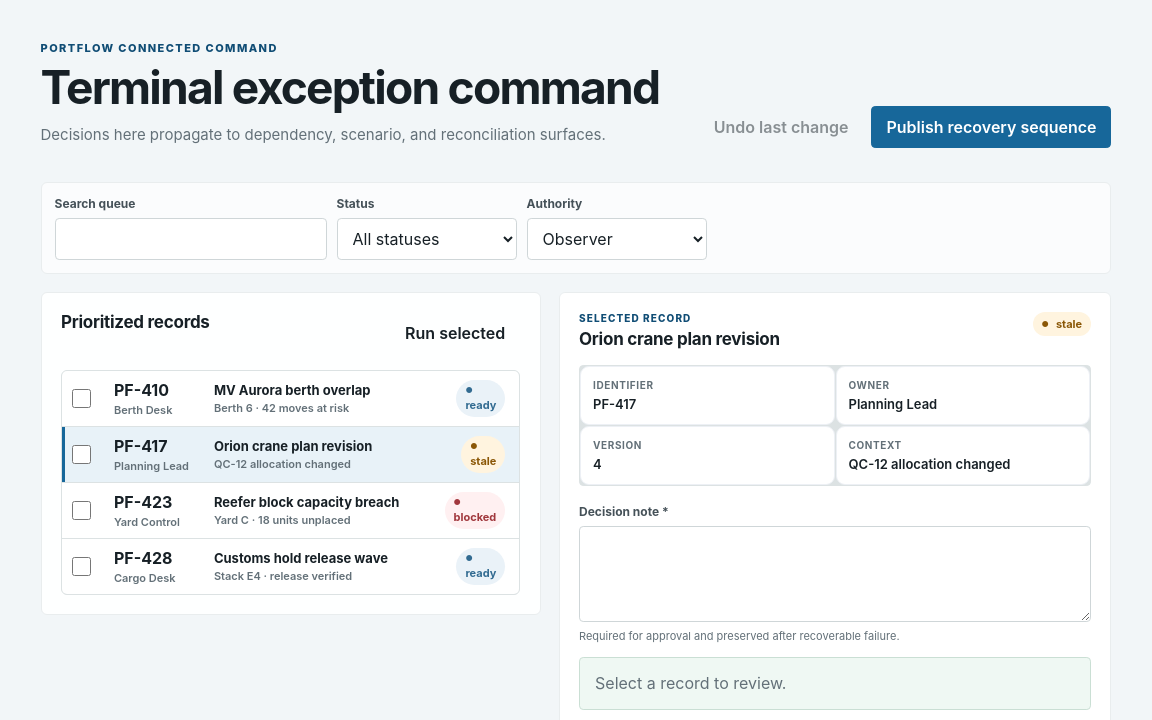
Test: Terminal exception command › recovers a stale save while preserving the decision note
Select "Approver" in the dropdown labelled "Authority" at (616, 239), box [526,218,706,260]
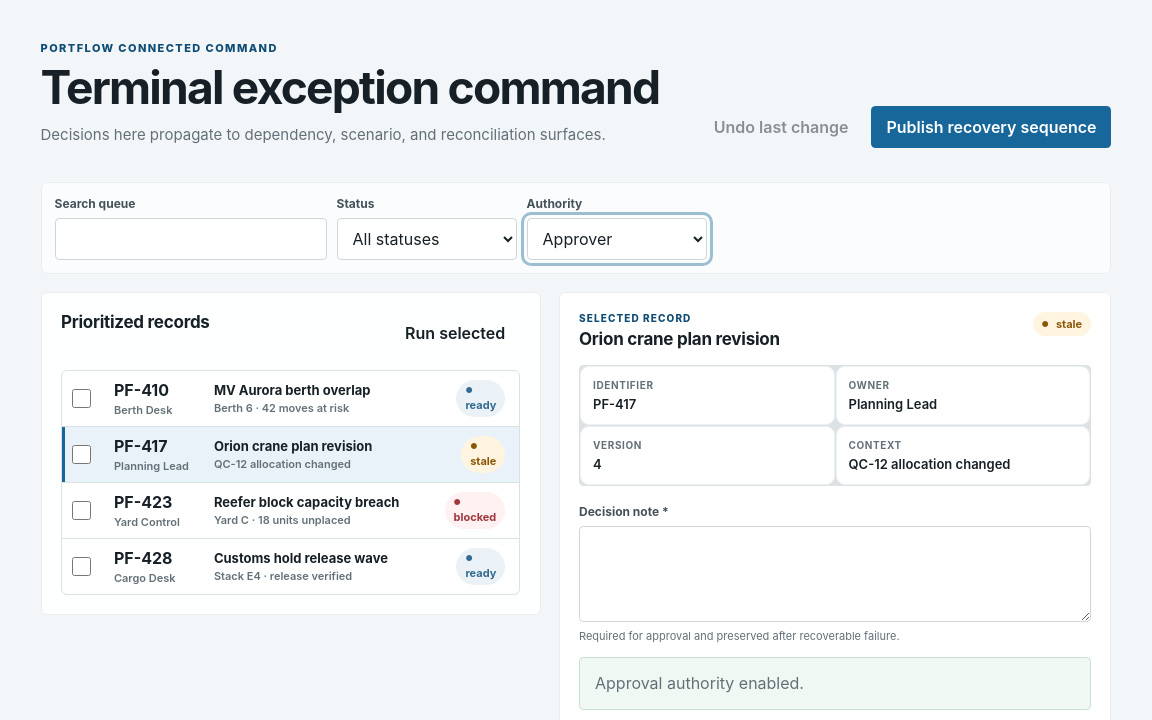
Type "Keep this evidence-based rationale" into the text box labelled "Decision note" at (835, 574), box [579,526,1091,622]
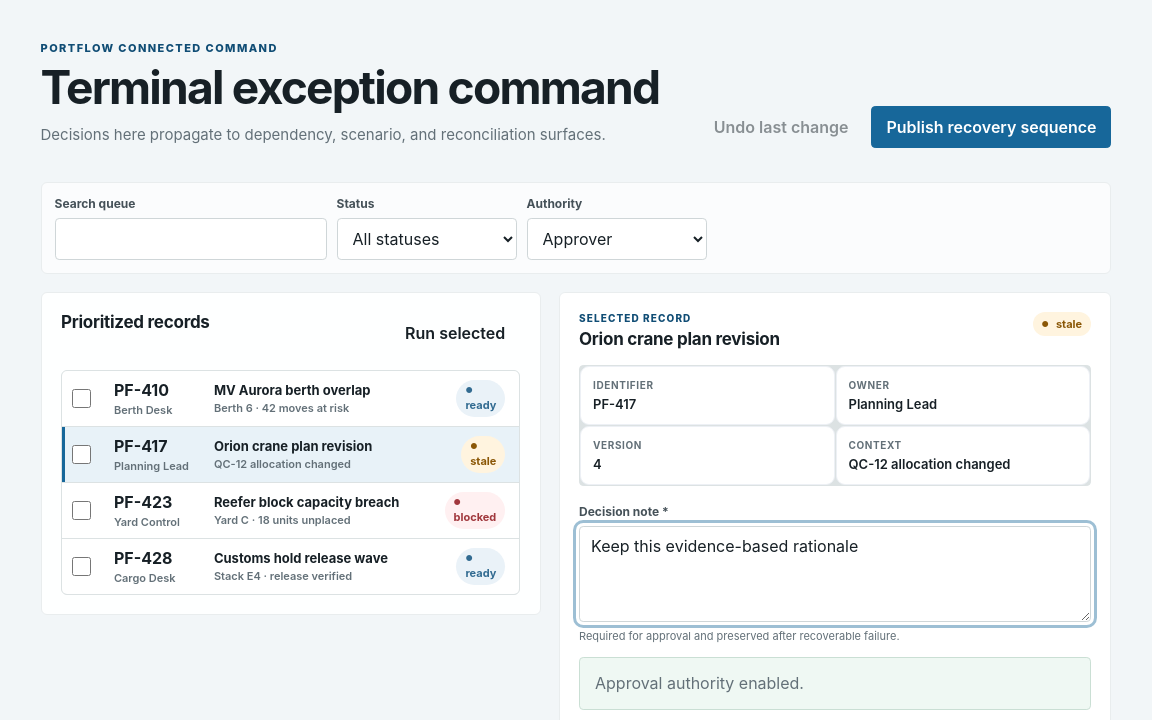
Click the button "Publish recovery sequence" at (992, 127), box [872,106,1112,148]
(page scrolled)
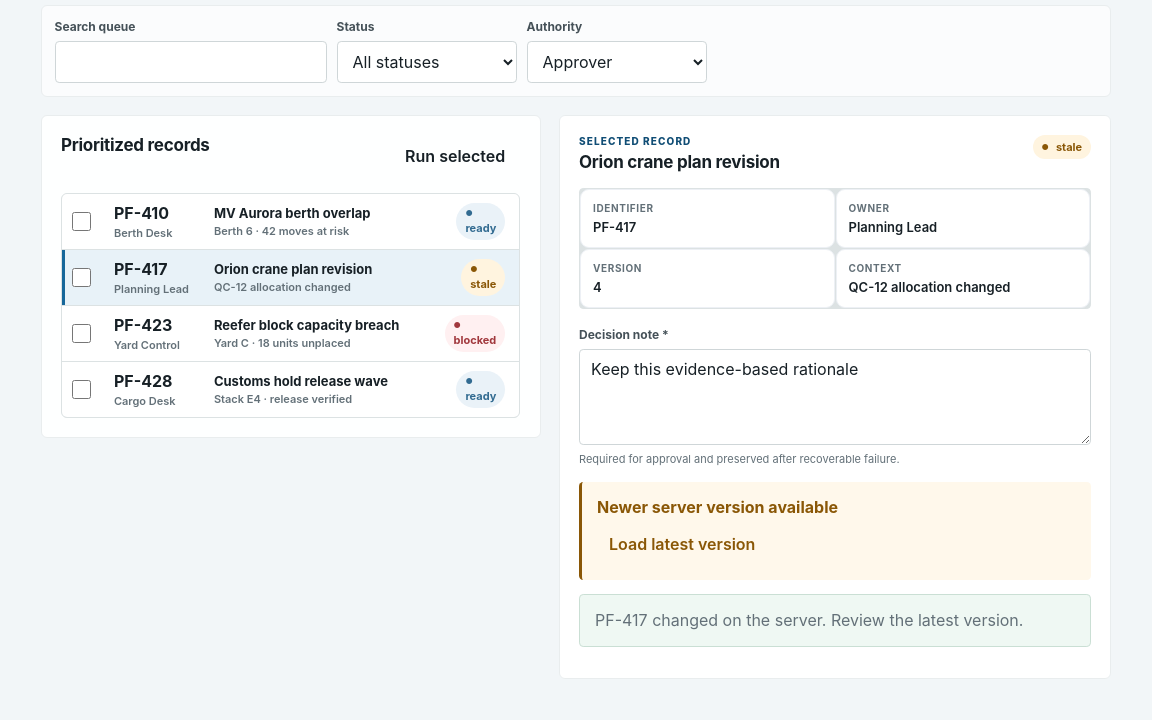
expect the message "Newer server version available Load latest version" is shown: met, box [579,482,1091,580]
Click the button "Load latest version" at (682, 544), box [597,523,1076,565]
(page scrolled)
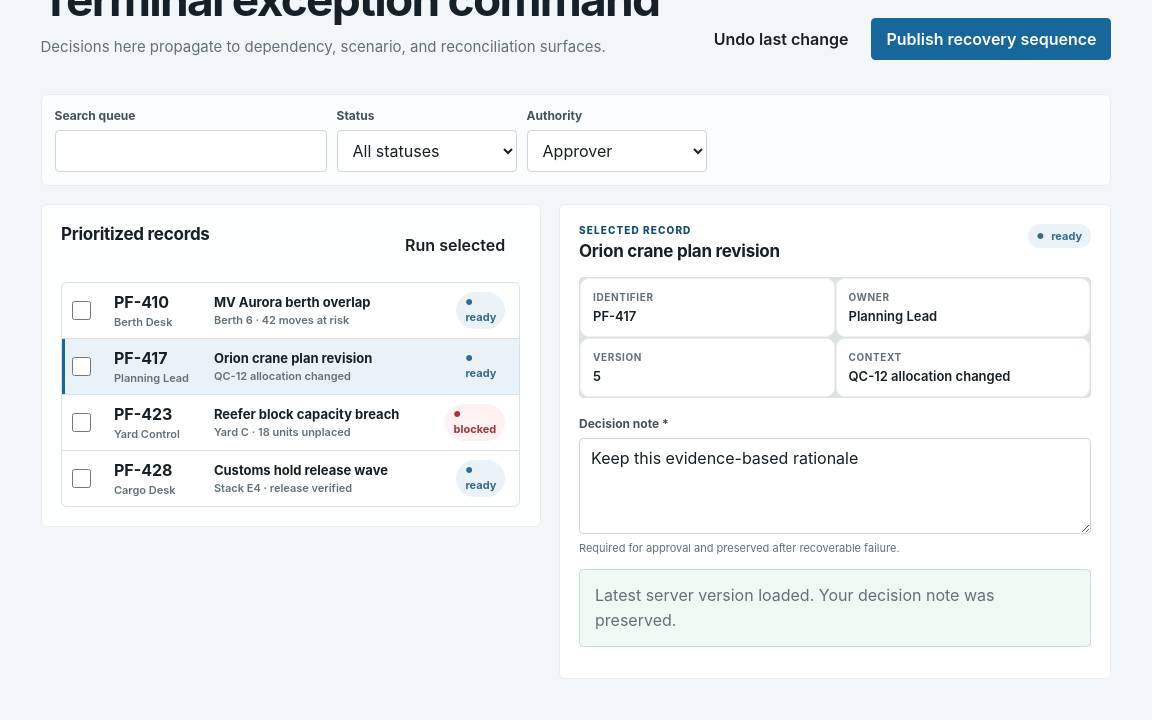
Click the button "Publish recovery sequence" at (992, 39), box [872,18,1112,60]
(page scrolled)
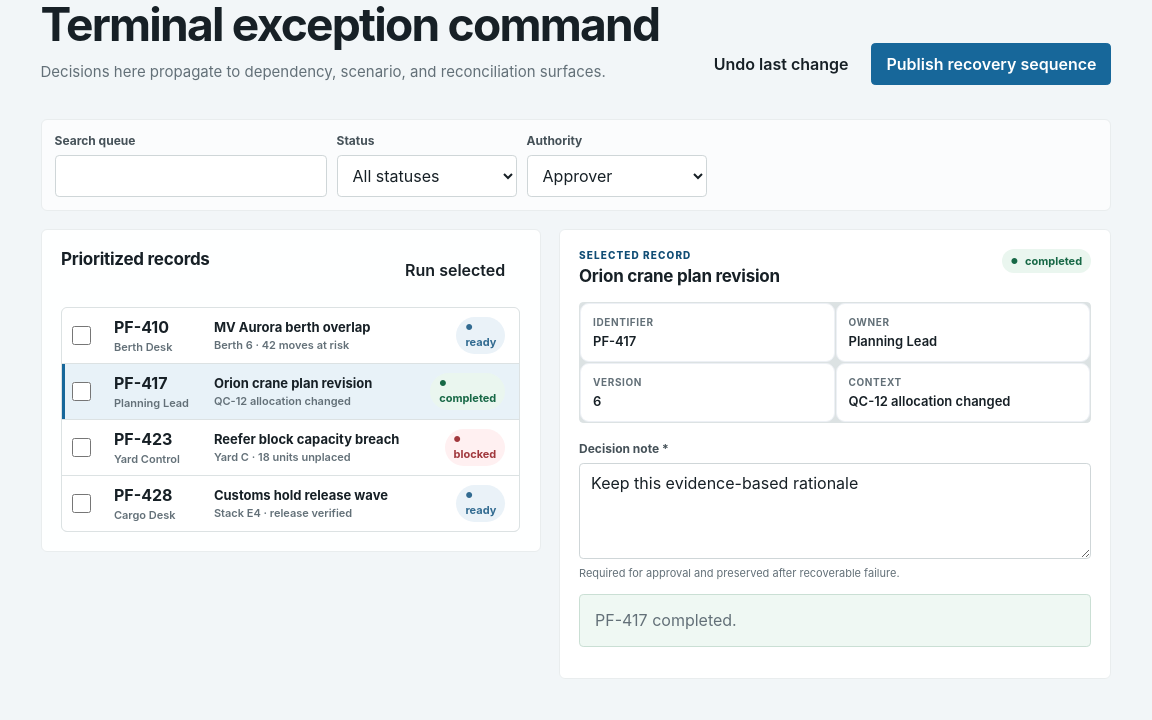
expect the message shows "completed": met, box [595,610,737,630]
